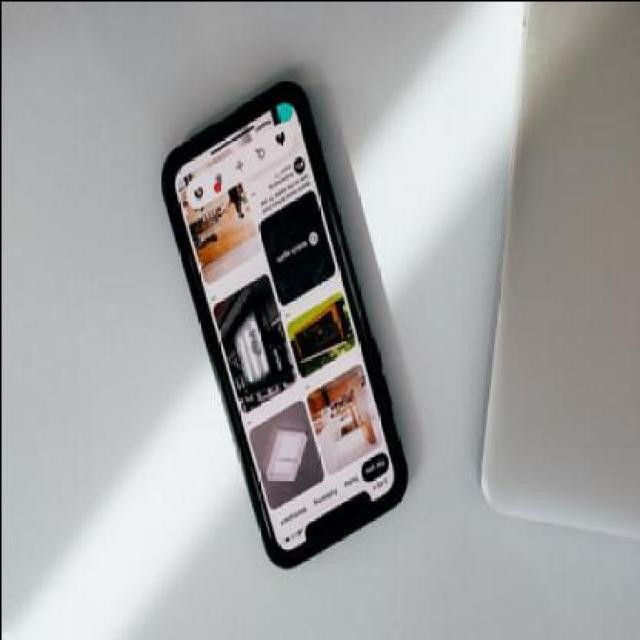phone: (158, 83, 409, 572)
